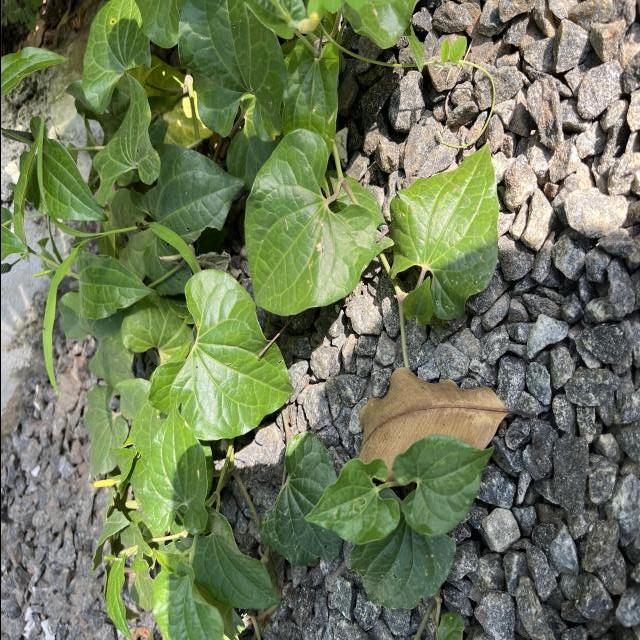Piper longum: (242, 125, 378, 318), (166, 266, 296, 444), (385, 139, 500, 322)
